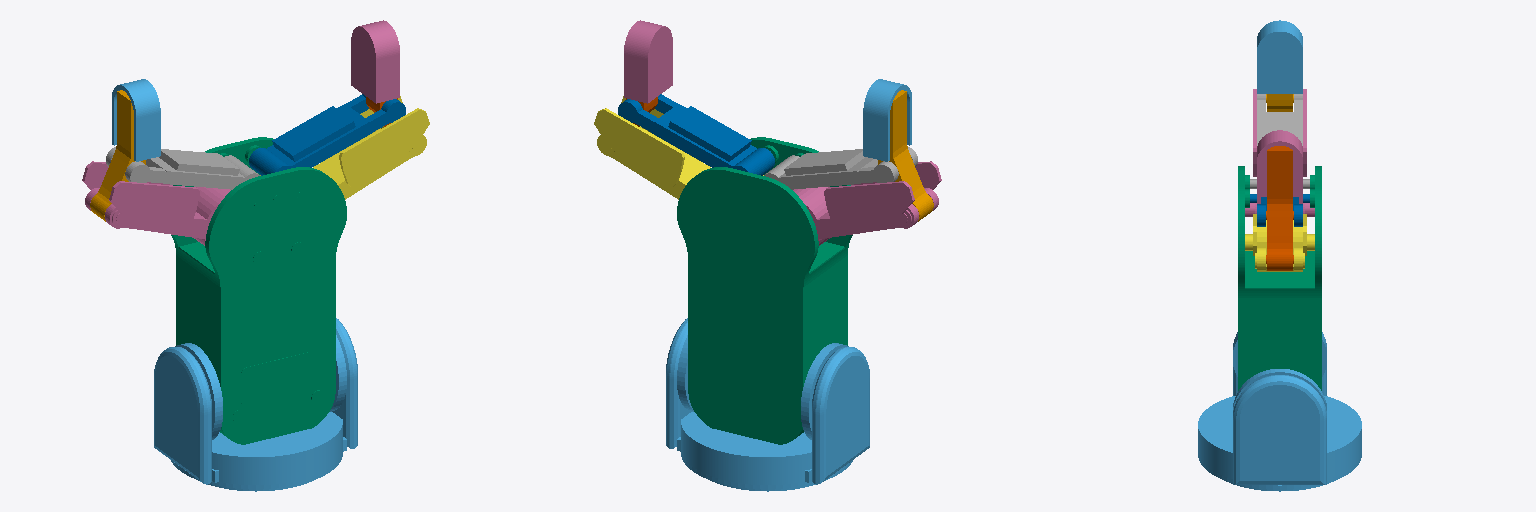
URDF robot description (onrobot_rg2_reference):
<?xml version="1.0"?>
<robot name="onrobot_rg2_reference">
<link name="mount"></link>
<link name="rg2_v2_gripper_bracket"><visual ><geometry ><mesh filename="../meshes/rg2_v2_gripper_bracket.obj"/></geometry></visual><collision ><origin xyz="0 0 0.0086" rpy="0 0 0"/><geometry ><cylinder radius="0.0355" length="0.0172"/></geometry></collision><collision ><origin xyz="0 0 0.0307" rpy="0 0 0"/><geometry ><box size="0.0751 0.0411 0.0521"/></geometry></collision></link>
<link name="rg2_v2_gripper_body"><visual ><geometry ><mesh filename="../meshes/rg2_v2_gripper_body.obj"/></geometry></visual><collision ><origin xyz="0 0 -0.0125" rpy="0 0 0"/><geometry ><box size="0.0541 0.0367 0.0151"/></geometry></collision><collision ><origin xyz="0 0 0.0239" rpy="0 0 0"/><geometry ><box size="0.0541 0.0367 0.0579"/></geometry></collision><collision ><origin xyz="0 0 0.057925" rpy="0 0 0"/><geometry ><box size="0.0583 0.0367 0.0103"/></geometry></collision><collision ><origin xyz="0 0 0.068175" rpy="0 0 0"/><geometry ><box size="0.065 0.0367 0.0103"/></geometry></collision><collision ><origin xyz="0 0 0.0795375" rpy="0 0 0"/><geometry ><box size="0.065 0.0367 0.0126"/></geometry></collision><collision ><origin xyz="0 0 0.0920125" rpy="0 0 0"/><geometry ><box size="0.058 0.0367 0.0126"/></geometry></collision></link>
<link name="rg2_v2_gripper_grasp_frame"></link>
<link name="tcp"></link>
<link name="rg2_v2_gripper_finger_1_origin"></link>
<link name="rg2_v2_gripper_finger_1_moment_arm"><visual ><geometry ><mesh filename="../meshes/rg2_v2_gripper_finger_1_moment_arm.obj"/></geometry></visual><collision ><origin xyz="0 0 0" rpy="1.57079632679 0 0"/><geometry ><cylinder radius="0.013" length="0.022"/></geometry></collision><collision ><origin xyz="0 0 0" rpy="1.57079632679 0 0"/><geometry ><cylinder radius="0.0035" length="0.0312"/></geometry></collision><collision ><origin xyz="-0.0256 0 0.04868" rpy="1.57079632679 0 0"/><geometry ><cylinder radius="0.005" length="0.022"/></geometry></collision><collision ><origin xyz="-0.0153164716705 0 0.0242589348605" rpy="0 -0.484139210085 0"/><geometry ><box size="0.0086 0.02 0.0372"/></geometry></collision><collision ><origin xyz="-0.0235518180204 0 0.0447852539543" rpy="0 -0.484139210085 0"/><geometry ><box size="0.01 0.02 0.0089"/></geometry></collision><collision ><origin xyz="-0.0130985346647 -0.01095 0.0402263009689" rpy="0 -0.484139210085 0"/><geometry ><box size="0.0168 0.0017 0.0422"/></geometry></collision><collision ><origin xyz="-0.0130985346647 0.01095 0.0402263009689" rpy="0 -0.484139210085 0"/><geometry ><box size="0.0168 0.0017 0.0422"/></geometry></collision></link>
<link name="rg2_v2_gripper_finger_1_truss_arm"><visual ><geometry ><mesh filename="../meshes/rg2_v2_gripper_finger_1_truss_arm.obj"/></geometry></visual><collision ><origin xyz="0 0 0" rpy="1.57079632679 0 0"/><geometry ><cylinder radius="0.005" length="0.02"/></geometry></collision><collision ><origin xyz="0 0 0" rpy="1.57079632679 0 0"/><geometry ><cylinder radius="0.002" length="0.0298"/></geometry></collision><collision ><origin xyz="-0.0256 0 0.04868" rpy="1.57079632679 0 0"/><geometry ><cylinder radius="0.0048" length="0.02"/></geometry></collision><collision ><origin xyz="-0.0100071033523 0 0.0190291324683" rpy="0 -0.484139210085 0"/><geometry ><box size="0.0056 0.02 0.043"/></geometry></collision><collision ><origin xyz="-0.0225743800185 0 0.0429265945039" rpy="0 -0.484139210085 0"/><geometry ><box size="0.0096 0.02 0.0131"/></geometry></collision><collision ><origin xyz="-0.00643400019239 0 0.0214730911032" rpy="0 -0.484139210085 0"/><geometry ><box size="0.0031 0.017 0.03"/></geometry></collision></link>
<link name="rg2_v2_gripper_finger_1_finger_tip"><visual ><geometry ><mesh filename="../meshes/rg2_v2_gripper_finger_1_finger_tip.obj"/></geometry></visual><collision ><origin xyz="-0.00475 0 0.00524" rpy="0 0 0"/><geometry ><box size="0.0195 0.0116 0.0535"/></geometry></collision><collision ><origin xyz="-0.0095 0 -0.0165" rpy="1.57079632679 0 0"/><geometry ><cylinder radius="0.002" length="0.0198"/></geometry></collision><collision ><origin xyz="0 0 0" rpy="1.57079632679 0 0"/><geometry ><cylinder radius="0.002" length="0.0198"/></geometry></collision></link>
<link name="rg2_v2_gripper_finger_1_flex_finger"><visual ><geometry ><mesh filename="../meshes/rg2_v2_gripper_finger_1_flex_finger.obj"/></geometry></visual><collision ><origin xyz="-0.0057 0 0" rpy="0 0 0"/><geometry ><box size="0.0114 0.0202 0.0298"/></geometry></collision></link>
<link name="rg2_v2_gripper_finger_2_origin"></link>
<link name="rg2_v2_gripper_finger_2_moment_arm"><visual ><geometry ><mesh filename="../meshes/rg2_v2_gripper_finger_2_moment_arm.obj"/></geometry></visual><collision ><origin xyz="0 0 0" rpy="1.57079632679 0 0"/><geometry ><cylinder radius="0.013" length="0.022"/></geometry></collision><collision ><origin xyz="0 0 0" rpy="1.57079632679 0 0"/><geometry ><cylinder radius="0.0035" length="0.0312"/></geometry></collision><collision ><origin xyz="-0.0256 0 0.04868" rpy="1.57079632679 0 0"/><geometry ><cylinder radius="0.005" length="0.022"/></geometry></collision><collision ><origin xyz="-0.0153164716705 0 0.0242589348605" rpy="0 -0.484139210085 0"/><geometry ><box size="0.0086 0.02 0.0372"/></geometry></collision><collision ><origin xyz="-0.0235518180204 0 0.0447852539543" rpy="0 -0.484139210085 0"/><geometry ><box size="0.01 0.02 0.0089"/></geometry></collision><collision ><origin xyz="-0.0130985346647 -0.01095 0.0402263009689" rpy="0 -0.484139210085 0"/><geometry ><box size="0.0168 0.0017 0.0422"/></geometry></collision><collision ><origin xyz="-0.0130985346647 0.01095 0.0402263009689" rpy="0 -0.484139210085 0"/><geometry ><box size="0.0168 0.0017 0.0422"/></geometry></collision></link>
<link name="rg2_v2_gripper_finger_2_truss_arm"><visual ><geometry ><mesh filename="../meshes/rg2_v2_gripper_finger_2_truss_arm.obj"/></geometry></visual><collision ><origin xyz="0 0 0" rpy="1.57079632679 0 0"/><geometry ><cylinder radius="0.005" length="0.02"/></geometry></collision><collision ><origin xyz="0 0 0" rpy="1.57079632679 0 0"/><geometry ><cylinder radius="0.002" length="0.0298"/></geometry></collision><collision ><origin xyz="-0.0256 0 0.04868" rpy="1.57079632679 0 0"/><geometry ><cylinder radius="0.0048" length="0.02"/></geometry></collision><collision ><origin xyz="-0.0100071033523 0 0.0190291324683" rpy="0 -0.484139210085 0"/><geometry ><box size="0.0056 0.02 0.043"/></geometry></collision><collision ><origin xyz="-0.0225743800185 0 0.0429265945039" rpy="0 -0.484139210085 0"/><geometry ><box size="0.0096 0.02 0.0131"/></geometry></collision><collision ><origin xyz="-0.00643400019239 0 0.0214730911032" rpy="0 -0.484139210085 0"/><geometry ><box size="0.0031 0.017 0.03"/></geometry></collision></link>
<link name="rg2_v2_gripper_finger_2_finger_tip"><visual ><geometry ><mesh filename="../meshes/rg2_v2_gripper_finger_2_finger_tip.obj"/></geometry></visual><collision ><origin xyz="-0.00475 0 0.00524" rpy="0 0 0"/><geometry ><box size="0.0195 0.0116 0.0535"/></geometry></collision><collision ><origin xyz="-0.0095 0 -0.0165" rpy="1.57079632679 0 0"/><geometry ><cylinder radius="0.002" length="0.0198"/></geometry></collision><collision ><origin xyz="0 0 0" rpy="1.57079632679 0 0"/><geometry ><cylinder radius="0.002" length="0.0198"/></geometry></collision></link>
<link name="rg2_v2_gripper_finger_2_flex_finger"><visual ><geometry ><mesh filename="../meshes/rg2_v2_gripper_finger_2_flex_finger.obj"/></geometry></visual><collision ><origin xyz="-0.0057 0 0" rpy="0 0 0"/><geometry ><box size="0.0114 0.0202 0.0298"/></geometry></collision></link>
<joint name="rg2_v2_gripper_bracket_joint" type="fixed"><parent link="mount"/><child link="rg2_v2_gripper_bracket"/><origin xyz="0 0 0" rpy="0 0 0"/></joint>
<joint name="rg2_v2_gripper_body_joint" type="fixed"><parent link="rg2_v2_gripper_bracket"/><child link="rg2_v2_gripper_body"/><origin xyz="0 0 0.0362" rpy="0 0 0"/></joint>
<joint name="rg2_v2_gripper_grasp_frame_joint" type="fixed"><parent link="rg2_v2_gripper_body"/><child link="rg2_v2_gripper_grasp_frame"/><origin xyz="0 0 0.168866352435" rpy="0 0 0"/></joint>
<joint name="tcp_joint" type="fixed"><parent link="rg2_v2_gripper_grasp_frame"/><child link="tcp"/><origin xyz="0 0 0" rpy="0 0 0"/></joint>
<joint name="rg2_v2_gripper_finger_1_origin_joint" type="fixed"><parent link="rg2_v2_gripper_body"/><child link="rg2_v2_gripper_finger_1_origin"/><origin xyz="0 0 0" rpy="0 0 0"/></joint>
<joint name="rg2_v2_gripper_joint" type="revolute"><parent link="rg2_v2_gripper_finger_1_origin"/><child link="rg2_v2_gripper_finger_1_moment_arm"/><origin xyz="-0.017 0 0.076" rpy="0 -0.783937645046 0"/><axis xyz="0 1 0"/><limit lower="0" upper="1.2326154780499372" velocity="0.5" effort="10"/></joint>
<joint name="rg2_v2_gripper_finger_1_truss_arm_joint" type="revolute"><parent link="rg2_v2_gripper_finger_1_origin"/><child link="rg2_v2_gripper_finger_1_truss_arm"/><origin xyz="-0.0075 0 0.0925" rpy="0 -0.783937645046 0"/><axis xyz="0 1 0"/><limit lower="0" upper="1.2326154780499372" velocity="0.5" effort="10"/><mimic joint="rg2_v2_gripper_joint" multiplier="1" offset="0"/></joint>
<joint name="rg2_v2_gripper_finger_1_finger_tip_joint" type="revolute"><parent link="rg2_v2_gripper_finger_1_truss_arm"/><child link="rg2_v2_gripper_finger_1_finger_tip"/><origin xyz="-0.0256 0 0.04868" rpy="0 0.783937645046 0"/><axis xyz="0 -1 0"/><limit lower="0" upper="1.2326154780499372" effort="10" velocity="0.5"/><mimic joint="rg2_v2_gripper_joint" multiplier="1" offset="0"/></joint>
<joint name="rg2_v2_gripper_finger_1_flex_finger_joint" type="fixed"><parent link="rg2_v2_gripper_finger_1_finger_tip"/><child link="rg2_v2_gripper_finger_1_flex_finger"/><origin xyz="0.00945 0 0.0214" rpy="0 0 0"/></joint>
<joint name="rg2_v2_gripper_finger_2_origin_joint" type="fixed"><parent link="rg2_v2_gripper_body"/><child link="rg2_v2_gripper_finger_2_origin"/><origin xyz="0 0 0" rpy="0 0 3.14159265359"/></joint>
<joint name="rg2_v2_gripper_mirror_joint" type="revolute"><parent link="rg2_v2_gripper_finger_2_origin"/><child link="rg2_v2_gripper_finger_2_moment_arm"/><origin xyz="-0.017 0 0.076" rpy="0 -0.783937645046 0"/><axis xyz="0 1 0"/><limit lower="0" upper="1.2326154780499372" velocity="0.5" effort="10"/><mimic joint="rg2_v2_gripper_joint" multiplier="1" offset="0"/></joint>
<joint name="rg2_v2_gripper_finger_2_truss_arm_joint" type="revolute"><parent link="rg2_v2_gripper_finger_2_origin"/><child link="rg2_v2_gripper_finger_2_truss_arm"/><origin xyz="-0.0075 0 0.0925" rpy="0 -0.783937645046 0"/><axis xyz="0 1 0"/><limit lower="0" upper="1.2326154780499372" velocity="0.5" effort="10"/><mimic joint="rg2_v2_gripper_joint" multiplier="1" offset="0"/></joint>
<joint name="rg2_v2_gripper_finger_2_finger_tip_joint" type="revolute"><parent link="rg2_v2_gripper_finger_2_truss_arm"/><child link="rg2_v2_gripper_finger_2_finger_tip"/><origin xyz="-0.0256 0 0.04868" rpy="0 0.783937645046 0"/><axis xyz="0 -1 0"/><limit lower="0" upper="1.2326154780499372" effort="10" velocity="0.5"/><mimic joint="rg2_v2_gripper_joint" multiplier="1" offset="0"/></joint>
<joint name="rg2_v2_gripper_finger_2_flex_finger_joint" type="fixed"><parent link="rg2_v2_gripper_finger_2_finger_tip"/><child link="rg2_v2_gripper_finger_2_flex_finger"/><origin xyz="0.00945 0 0.0214" rpy="0 0 0"/></joint>
</robot>

--- What the picture shows (computed from the rendered views, not written in the file) ---
3 views of the same robot in one strip: view 1: azimuth 30°, elevation 25°; view 2: azimuth 150°, elevation 25°; view 3: azimuth 270°, elevation 25° (orthographic).
Model onrobot_rg2_reference with 15 links and 14 joints (6 revolute, 8 fixed), rooted at mount, posed every joint at zero.
Links seen in each view (by area): view 1: rg2_v2_gripper_body, rg2_v2_gripper_bracket, rg2_v2_gripper_finger_1_moment_arm, rg2_v2_gripper_finger_2_truss_arm, rg2_v2_gripper_finger_2_moment_arm, rg2_v2_gripper_finger_1_truss_arm, rg2_v2_gripper_finger_2_flex_finger, rg2_v2_gripper_finger_1_flex_finger, rg2_v2_gripper_finger_1_finger_tip; view 2: rg2_v2_gripper_body, rg2_v2_gripper_bracket, rg2_v2_gripper_finger_1_moment_arm, rg2_v2_gripper_finger_2_truss_arm, rg2_v2_gripper_finger_2_moment_arm, rg2_v2_gripper_finger_1_truss_arm, rg2_v2_gripper_finger_2_flex_finger, rg2_v2_gripper_finger_1_flex_finger, rg2_v2_gripper_finger_1_finger_tip; view 3: rg2_v2_gripper_bracket, rg2_v2_gripper_body, rg2_v2_gripper_finger_2_finger_tip, rg2_v2_gripper_finger_1_flex_finger, rg2_v2_gripper_finger_2_flex_finger, rg2_v2_gripper_finger_2_moment_arm, rg2_v2_gripper_finger_1_truss_arm, rg2_v2_gripper_finger_1_moment_arm, rg2_v2_gripper_finger_2_truss_arm.
Link boxes in pixels (x1,y1,x2,y2): rg2_v2_gripper_body: (171,137,346,444); rg2_v2_gripper_bracket: (154,318,357,491); rg2_v2_gripper_finger_1_moment_arm: (82,161,230,245); rg2_v2_gripper_finger_2_truss_arm: (249,94,405,175); rg2_v2_gripper_finger_2_moment_arm: (260,96,429,199); rg2_v2_gripper_finger_1_truss_arm: (106,147,259,189); rg2_v2_gripper_finger_2_flex_finger: (351,20,399,103); rg2_v2_gripper_finger_1_flex_finger: (112,79,160,161); rg2_v2_gripper_finger_1_finger_tip: (90,90,145,221); rg2_v2_gripper_body: (677,137,852,444); rg2_v2_gripper_bracket: (666,318,869,491); rg2_v2_gripper_finger_1_moment_arm: (793,161,941,245); rg2_v2_gripper_finger_2_truss_arm: (618,94,774,175); rg2_v2_gripper_finger_2_moment_arm: (594,96,763,199); rg2_v2_gripper_finger_1_truss_arm: (764,147,917,189); rg2_v2_gripper_finger_2_flex_finger: (624,20,672,103); rg2_v2_gripper_finger_1_flex_finger: (863,79,911,161); rg2_v2_gripper_finger_1_finger_tip: (878,90,933,221); rg2_v2_gripper_bracket: (1198,332,1361,491); rg2_v2_gripper_body: (1238,166,1321,390); rg2_v2_gripper_finger_2_finger_tip: (1266,146,1293,270); rg2_v2_gripper_finger_1_flex_finger: (1257,20,1302,93); rg2_v2_gripper_finger_2_flex_finger: (1257,130,1302,203); rg2_v2_gripper_finger_2_moment_arm: (1245,214,1314,271); rg2_v2_gripper_finger_1_truss_arm: (1250,94,1309,188); rg2_v2_gripper_finger_1_moment_arm: (1245,89,1314,216); rg2_v2_gripper_finger_2_truss_arm: (1250,194,1309,226).
Size in the robot's own frame: 0.1497 by 0.071 by 0.1814 metres.
Meshes: 10 distinct files referenced, 10 mesh visuals loaded (10 OBJ).
